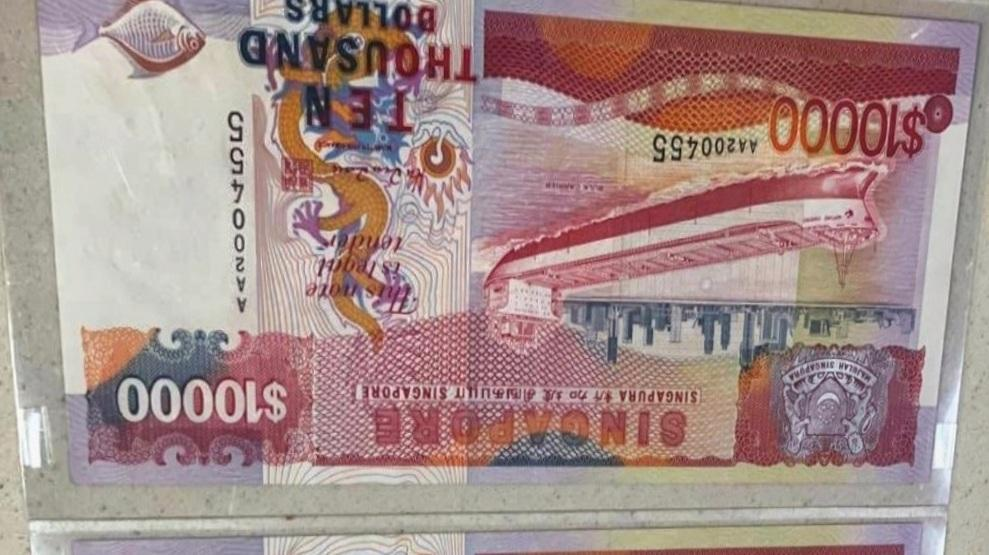10000SingaporeDollar: (56, 0, 941, 484)
